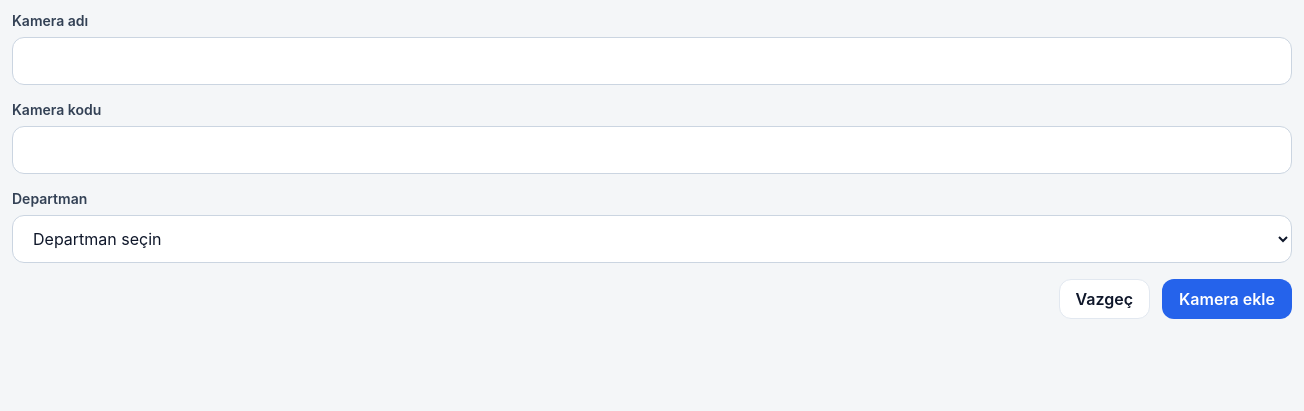
it: CameraForm › shows validation errors for empty required fields
Click the button "Kamera ekle": (1227, 299) [1162,279,1292,319]
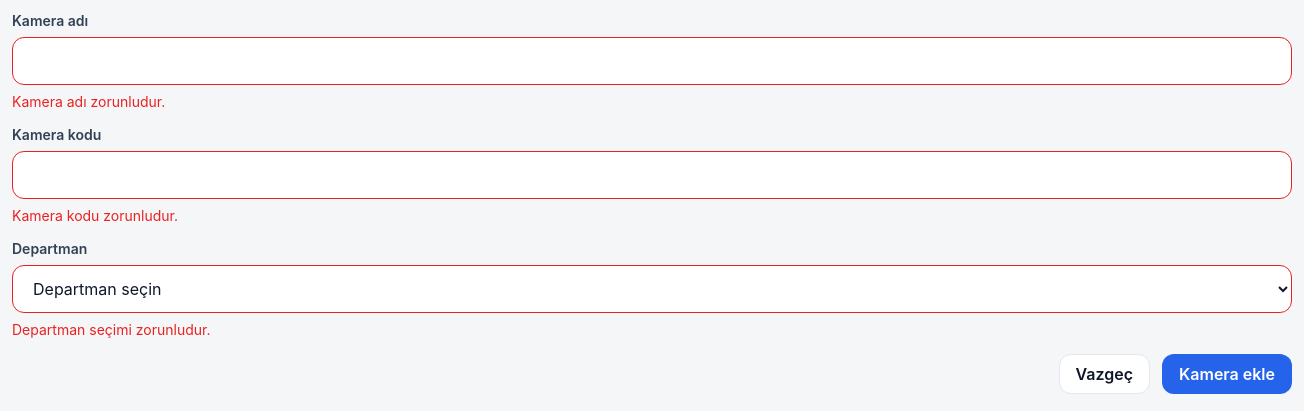
expect the text "Kamera adı zorunludur." is shown: met, box [12,93,165,110]
expect the text "Kamera kodu zorunludur." is shown: met, box [12,207,178,224]
expect the text "Departman seçimi zorunludur." is shown: met, box [12,321,210,338]
